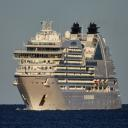cruises: (12, 18, 126, 112)
